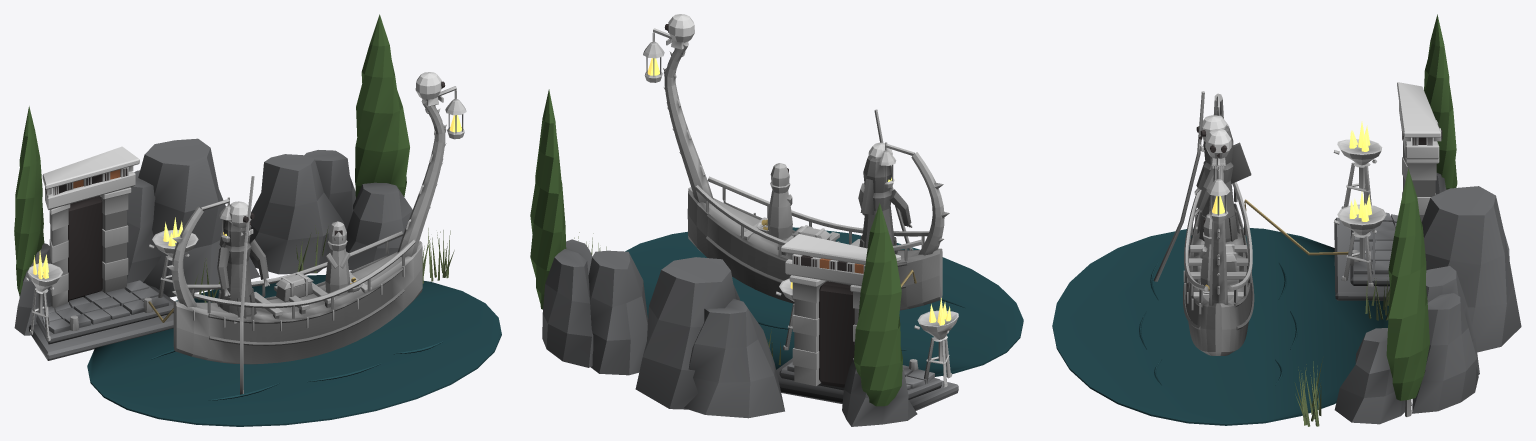
Rendered from charons-barge-l1.glb.
The picture shows the model from 3 angles, left to right: view 1: azimuth 30°, elevation 25°; view 2: azimuth 150°, elevation 25°; view 3: azimuth 270°, elevation 25°; orthographic projection. The views are drawn at different scales.
Parts seen in each view (by area): view 1: charons-barge-l1; view 2: charons-barge-l1; view 3: charons-barge-l1.
Part boxes in pixels (x1,y1,x2,y2): charons-barge-l1: (14,14,501,426); charons-barge-l1: (530,14,1023,426); charons-barge-l1: (1052,14,1521,426).
Size of the model in its own units: 1.42 by 0.8633 by 1.38.
